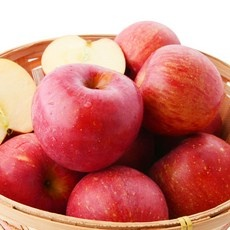apple: (30, 62, 145, 168), (130, 48, 224, 133), (146, 132, 230, 214), (66, 166, 168, 230), (1, 132, 83, 211), (38, 35, 125, 89), (115, 20, 179, 72), (1, 57, 36, 138)
